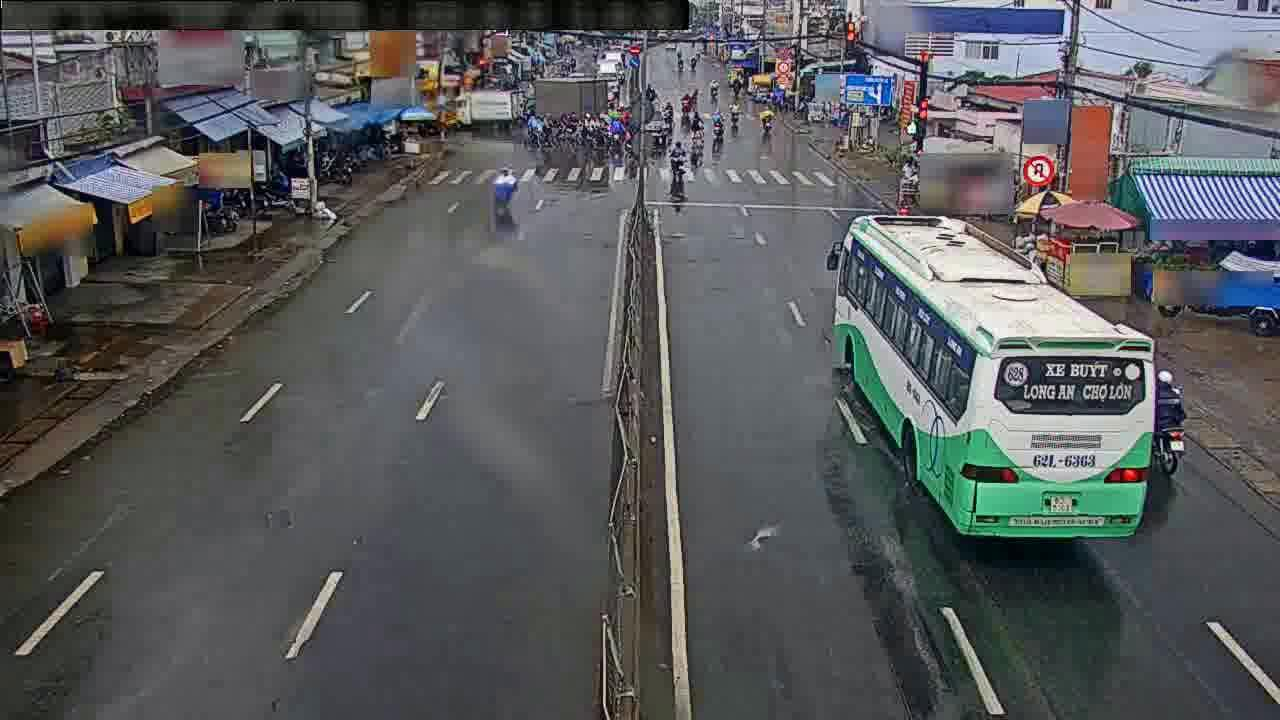14: (846, 216, 1139, 532)
motorbike: (1140, 364, 1197, 477), (492, 170, 517, 225), (663, 143, 689, 173), (689, 125, 708, 151), (729, 99, 743, 129), (710, 113, 726, 138), (759, 107, 777, 129)
